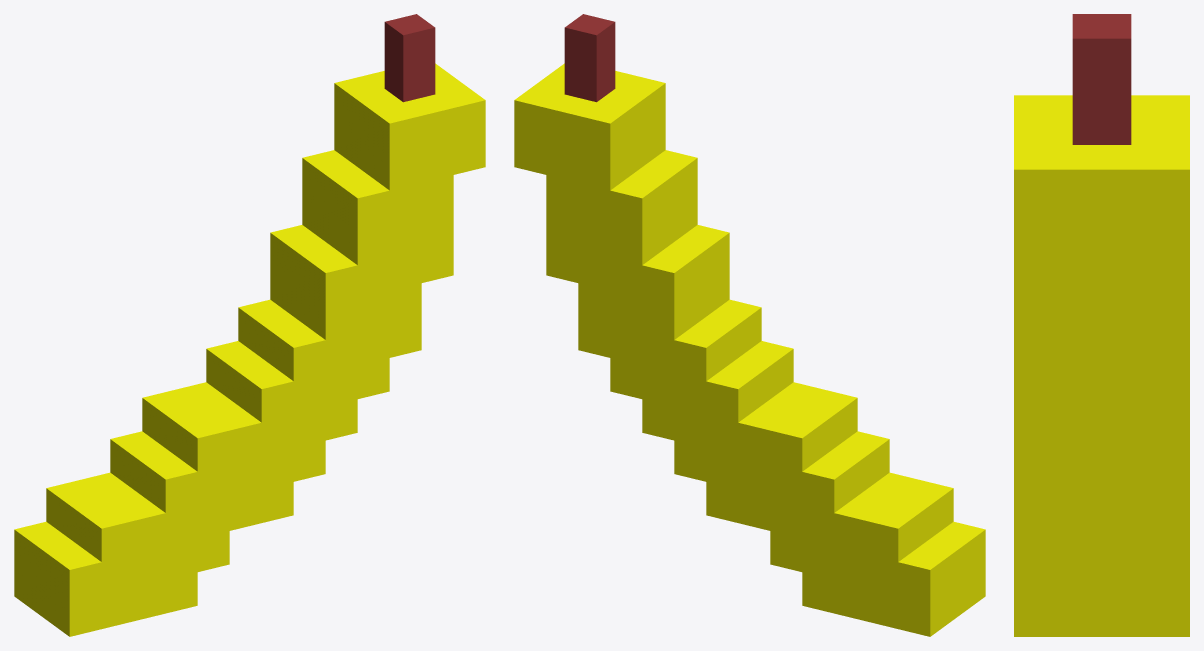
Rendered from banana.dae.
The picture shows the model from 3 angles, left to right: view 1: azimuth 30°, elevation 25°; view 2: azimuth 150°, elevation 25°; view 3: azimuth 270°, elevation 25°; orthographic projection. The views are drawn at different scales.
Parts seen in each view (by area): view 1: banana; view 2: banana; view 3: banana.
Boxes of the visible parts, x1=… form: banana: x1=14, y1=14, x2=485, y2=636; banana: x1=514, y1=14, x2=985, y2=636; banana: x1=1014, y1=14, x2=1189, y2=636.
Bounding box in the file's own units: 1.3 × 0.3 × 1.5.
Materials: 1 (1 with a texture image).
